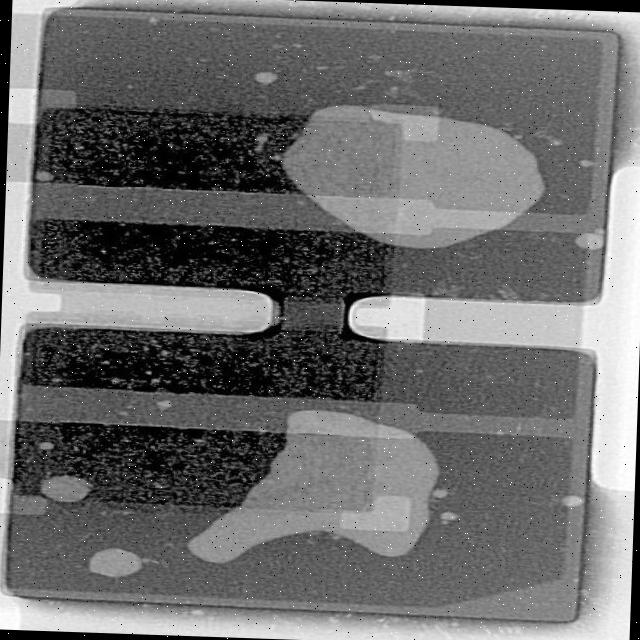chip: (5, 326, 594, 620), (26, 10, 617, 299)
void: (186, 404, 440, 565), (278, 105, 542, 250), (88, 546, 142, 576), (38, 472, 90, 502), (37, 87, 75, 125), (12, 493, 47, 512), (573, 230, 604, 250), (252, 69, 276, 85), (560, 491, 583, 506), (34, 168, 54, 181), (440, 509, 457, 524), (430, 486, 446, 499), (38, 440, 53, 449)
